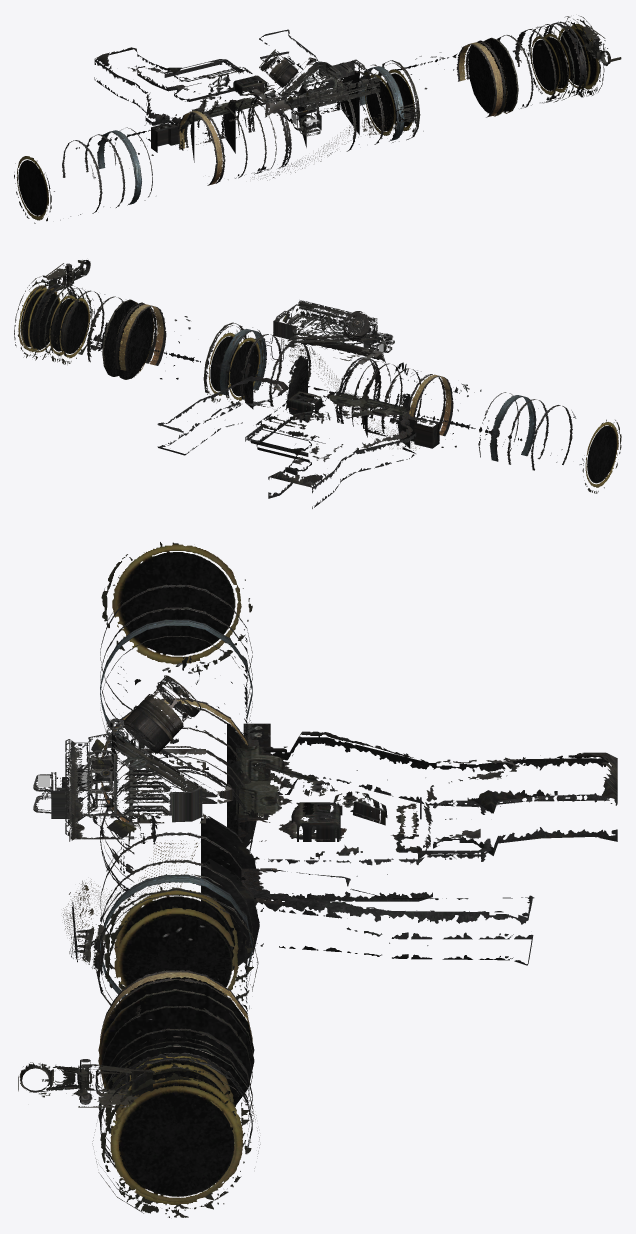
Rendered from t6_wpn_launch_smaw_view_LOD0.obj.
The picture shows the model from 3 angles, top to bottom: view 1: azimuth 30°, elevation 25°; view 2: azimuth 150°, elevation 25°; view 3: azimuth 270°, elevation 25°; orthographic projection. The views are drawn at different scales.
Visible parts, largest first — view 1: mtl_t6_wpn_launch_smaw, mtl_t6_wpn_launch_smaw_camo3, mtl_t6_wpn_launch_smaw_camo2, mtl_t6_wpn_launch_smaw_camo4; view 2: mtl_t6_wpn_launch_smaw, mtl_t6_wpn_launch_smaw_camo3, mtl_t6_wpn_launch_smaw_camo2, mtl_t6_wpn_launch_smaw_camo4; view 3: mtl_t6_wpn_launch_smaw_camo3, mtl_t6_wpn_launch_smaw, mtl_t6_wpn_launch_smaw_camo2, mtl_t6_wpn_launch_smaw_camo4.
Boxes of the visible parts, left/top/right/bottom form: mtl_t6_wpn_launch_smaw: left=14, top=21, right=600, bottom=223; mtl_t6_wpn_launch_smaw_camo3: left=186, top=24, right=605, bottom=142; mtl_t6_wpn_launch_smaw_camo2: left=151, top=15, right=621, bottom=180; mtl_t6_wpn_launch_smaw_camo4: left=94, top=33, right=600, bottom=150; mtl_t6_wpn_launch_smaw: left=17, top=283, right=621, bottom=493; mtl_t6_wpn_launch_smaw_camo3: left=44, top=263, right=409, bottom=423; mtl_t6_wpn_launch_smaw_camo2: left=14, top=260, right=481, bottom=464; mtl_t6_wpn_launch_smaw_camo4: left=55, top=265, right=416, bottom=508; mtl_t6_wpn_launch_smaw_camo3: left=33, top=718, right=387, bottom=1151; mtl_t6_wpn_launch_smaw: left=68, top=542, right=259, bottom=1208; mtl_t6_wpn_launch_smaw_camo2: left=18, top=656, right=534, bottom=1217; mtl_t6_wpn_launch_smaw_camo4: left=50, top=705, right=617, bottom=1096.
Bounding box in the file's own units: 86.32 × 18.77 × 40.71.
